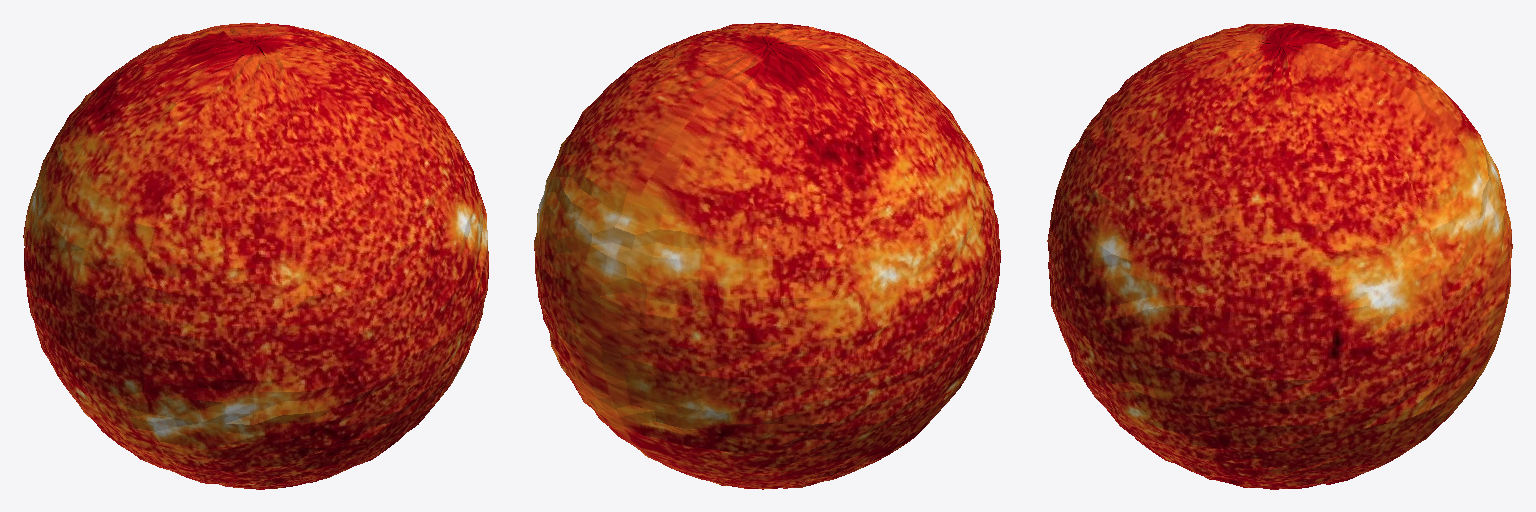
The picture shows the model from 3 angles: view 1: azimuth 30°, elevation 25°; view 2: azimuth 150°, elevation 25°; view 3: azimuth 270°, elevation 25°; orthographic projection.
Parts seen in each view (by area): view 1: Sun; view 2: Sun; view 3: Sun.
Part boxes in pixels (x1,y1,x2,y2): Sun: (23, 23, 488, 489); Sun: (534, 23, 1000, 489); Sun: (1047, 23, 1512, 489).
Bounding box in the file's own units: 27.83 × 27.92 × 27.8.
Materials: 1 (1 with a texture image).